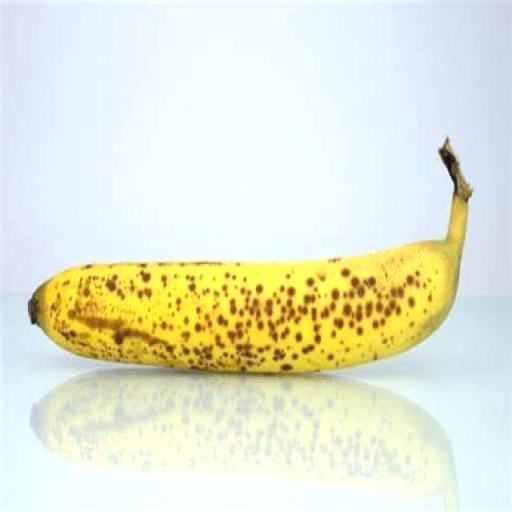fruit: (28, 140, 471, 372), (31, 368, 456, 509)
